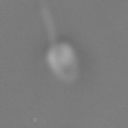normal: (36, 1, 57, 44)
